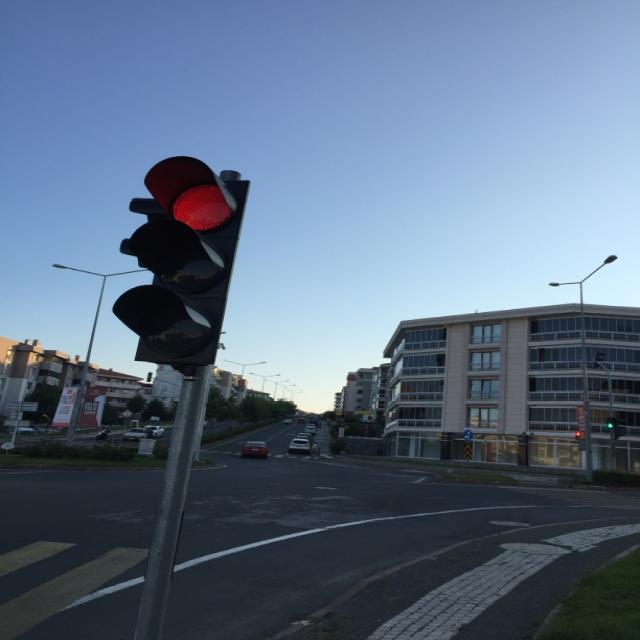kirmizi: (127, 155, 254, 365)
